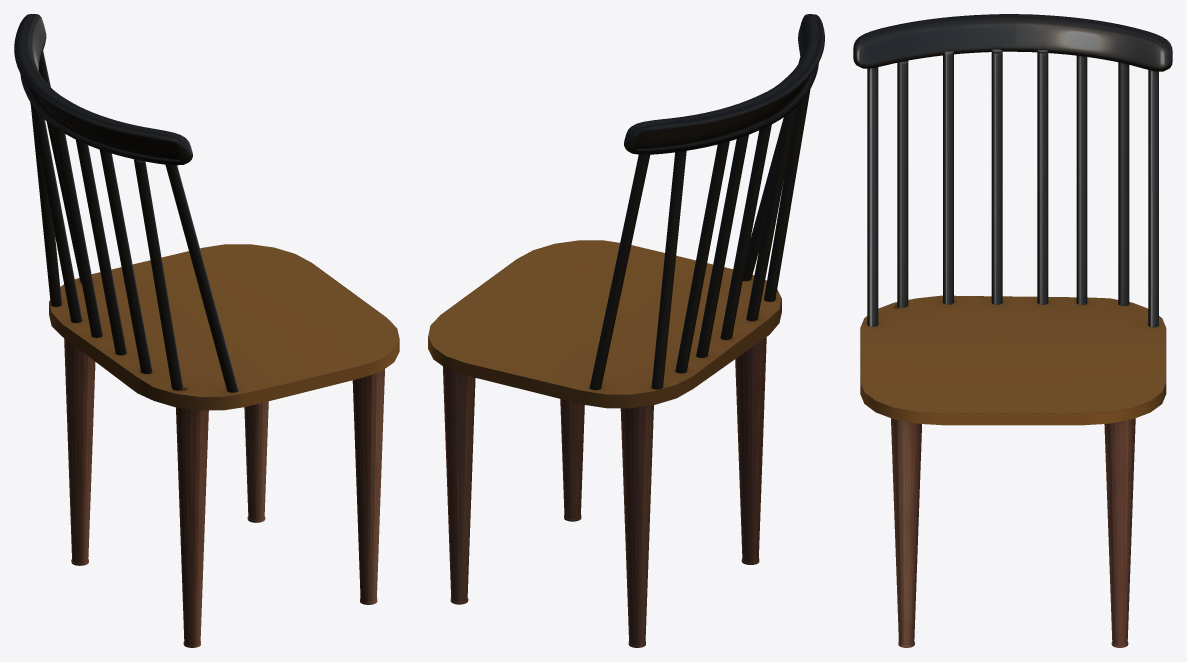
Rendered from lambert chair glb.glb.
The picture shows the model from 3 angles, left to right: view 1: azimuth 30°, elevation 25°; view 2: azimuth 150°, elevation 25°; view 3: azimuth 270°, elevation 25°; orthographic projection. The views are drawn at different scales.
Parts seen in each view (by area): view 1: seat, handle, leg_2, leg_1, leg_3, stick1, stick3, stick5, stick6, stick8, stick7, leg_4 (+2 smaller); view 2: seat, handle, leg_3, leg_4, leg_2, stick2, stick4, stick8, stick7, stick6, stick5, leg_1 (+2 smaller); view 3: seat, handle, leg_1, leg_4, stick1, stick6, stick7, stick8, stick3, stick4, stick2, stick5.
Boxes of the visible parts, <box> form: seat: <box>49,244,399,410</box>; handle: <box>14,14,192,165</box>; leg_2: <box>176,407,208,647</box>; leg_1: <box>352,369,384,604</box>; leg_3: <box>64,338,95,565</box>; stick1: <box>165,164,238,392</box>; stick3: <box>134,159,182,390</box>; stick5: <box>99,150,152,373</box>; stick6: <box>76,140,126,355</box>; stick8: <box>30,102,82,322</box>; stick7: <box>52,126,102,337</box>; leg_4: <box>244,401,268,522</box>; seat: <box>428,240,781,408</box>; handle: <box>624,14,824,154</box>; leg_3: <box>620,405,653,647</box>; leg_4: <box>443,366,475,604</box>; leg_2: <box>735,337,766,564</box>; stick2: <box>589,154,650,389</box>; stick4: <box>651,151,686,389</box>; stick8: <box>675,141,729,373</box>; stick7: <box>696,135,748,357</box>; stick6: <box>720,124,771,339</box>; stick5: <box>746,106,797,320</box>; leg_1: <box>560,399,584,521</box>; seat: <box>860,295,1166,425</box>; handle: <box>853,14,1172,71</box>; leg_1: <box>891,418,921,647</box>; leg_4: <box>1104,418,1135,647</box>; stick1: <box>867,67,878,326</box>; stick6: <box>991,49,1002,304</box>; stick7: <box>1037,50,1048,304</box>; stick8: <box>1076,55,1087,304</box>; stick3: <box>897,60,908,307</box>; stick4: <box>1118,62,1129,305</box>; stick2: <box>1148,70,1158,327</box>; stick5: <box>943,51,953,304</box>.
Bounding box in the file's own units: 4.7 × 7.83 × 4.43.
Materials: 1 (1 with a texture image).
